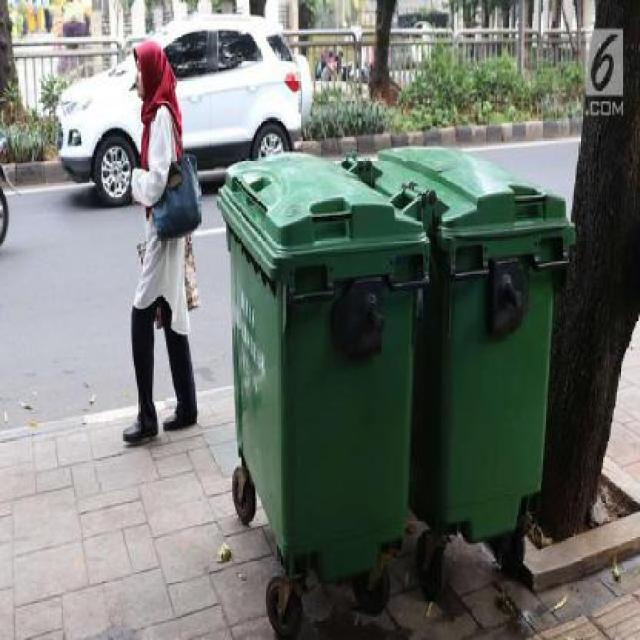garbage container: (210, 146, 433, 639), (370, 141, 579, 587)
